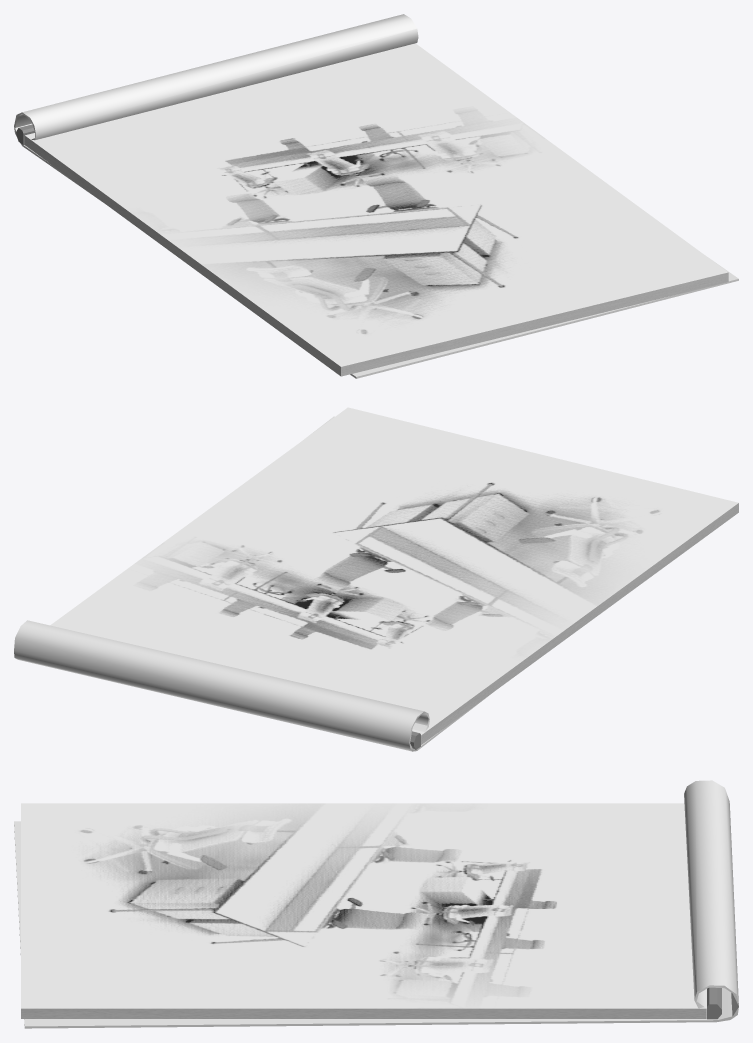
The model's file is Block.glb.
3 views of the same model, one above another, from view 1: azimuth 30°, elevation 25°; view 2: azimuth 150°, elevation 25°; view 3: azimuth 270°, elevation 25° (orthographic). The views are drawn at different scales.
Parts seen in each view (by area): view 1: 52f152e5-9bd9-4d0a-8341-d36db735008a, e534329a-4b24-42cd-b859-2762ff1865bd, ec6acd24-bdf2-4759-9fbe-5539f21c3aba; view 2: 52f152e5-9bd9-4d0a-8341-d36db735008a, e534329a-4b24-42cd-b859-2762ff1865bd, ec6acd24-bdf2-4759-9fbe-5539f21c3aba; view 3: 52f152e5-9bd9-4d0a-8341-d36db735008a, e534329a-4b24-42cd-b859-2762ff1865bd, ec6acd24-bdf2-4759-9fbe-5539f21c3aba, 80d09805-7a0b-428b-8ffa-2be933be013b.
Part boxes in pixels (left/top/right/bottom): 52f152e5-9bd9-4d0a-8341-d36db735008a: left=25, top=43, right=728, bottom=366; e534329a-4b24-42cd-b859-2762ff1865bd: left=14, top=14, right=738, bottom=378; ec6acd24-bdf2-4759-9fbe-5539f21c3aba: left=24, top=135, right=728, bottom=376; 52f152e5-9bd9-4d0a-8341-d36db735008a: left=50, top=407, right=738, bottom=735; e534329a-4b24-42cd-b859-2762ff1865bd: left=14, top=416, right=491, bottom=751; ec6acd24-bdf2-4759-9fbe-5539f21c3aba: left=421, top=503, right=738, bottom=744; 52f152e5-9bd9-4d0a-8341-d36db735008a: left=21, top=803, right=706, bottom=1008; e534329a-4b24-42cd-b859-2762ff1865bd: left=14, top=780, right=738, bottom=1028; ec6acd24-bdf2-4759-9fbe-5539f21c3aba: left=21, top=1008, right=706, bottom=1018; 80d09805-7a0b-428b-8ffa-2be933be013b: left=707, top=987, right=721, bottom=1019.
Size of the model in its own units: 0.2173 by 0.0176 by 0.3138.
Materials: 4 (2 with a texture image).
